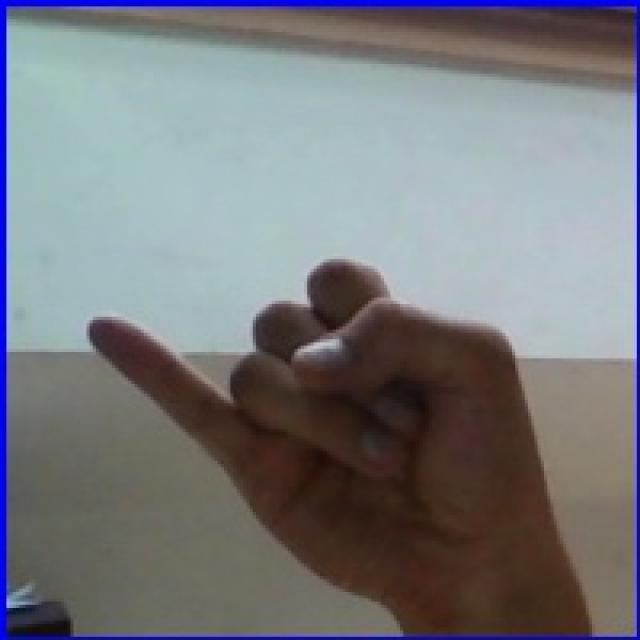J: (33, 198, 610, 635)
